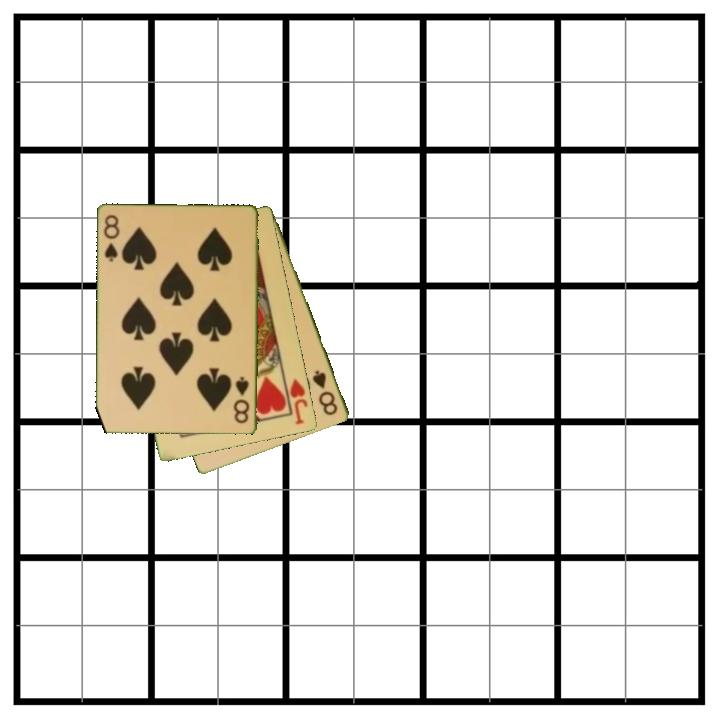8s: (309, 367, 341, 418), (100, 212, 123, 265), (231, 373, 252, 426)
Jh: (287, 375, 311, 428)
